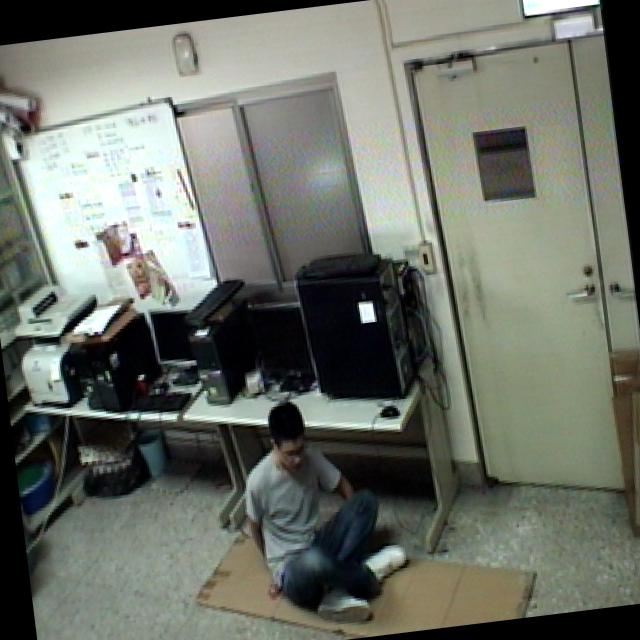sit: (226, 380, 419, 638)
